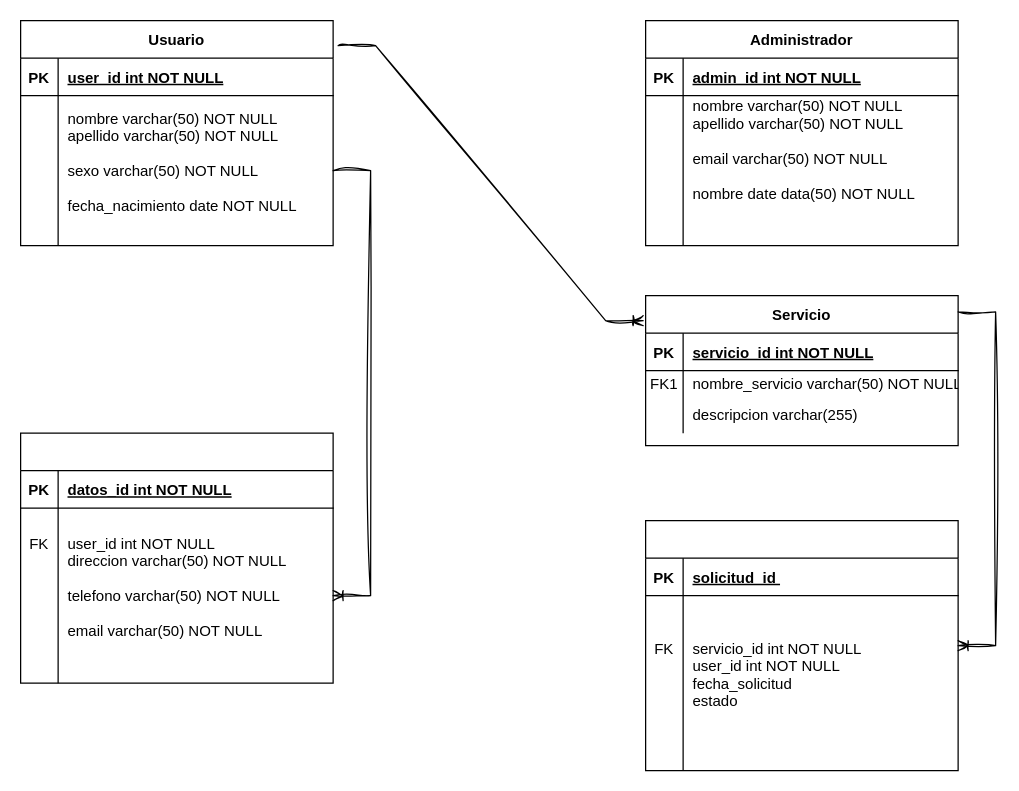
The diagram is 1019 pixels wide and 791 high, and some of its shapes have lost their labels. Each missing label, with the box of its shape:
DatosContacto: (19, 432, 333, 683)
SolicitudServicio: (644, 519, 958, 771)
